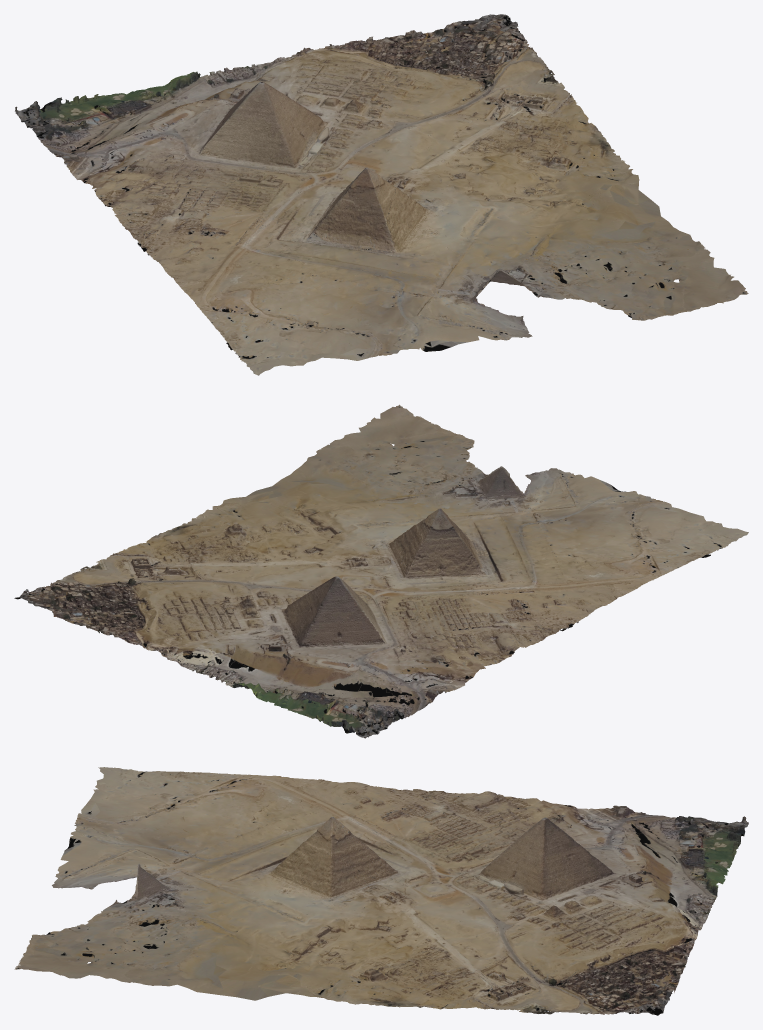
File: giza-plateau-140k.glb
The picture shows the model from 3 angles, top to bottom: view 1: azimuth 30°, elevation 25°; view 2: azimuth 150°, elevation 25°; view 3: azimuth 270°, elevation 25°; orthographic projection. The views are drawn at different scales.
Parts seen in each view (by area): view 1: GizaPlateau-pierre391-simplified; view 2: GizaPlateau-pierre391-simplified; view 3: GizaPlateau-pierre391-simplified.
Part boxes in pixels (x1,y1,x2,y2): GizaPlateau-pierre391-simplified: [15, 14, 748, 375]; GizaPlateau-pierre391-simplified: [14, 404, 748, 738]; GizaPlateau-pierre391-simplified: [14, 767, 748, 1015].
Bounding box in the file's own units: 10.49 × 1.38 × 12.8.
Materials: 1 (1 with a texture image).
